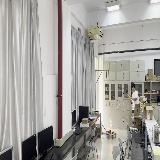fire: (108, 118, 113, 133)
